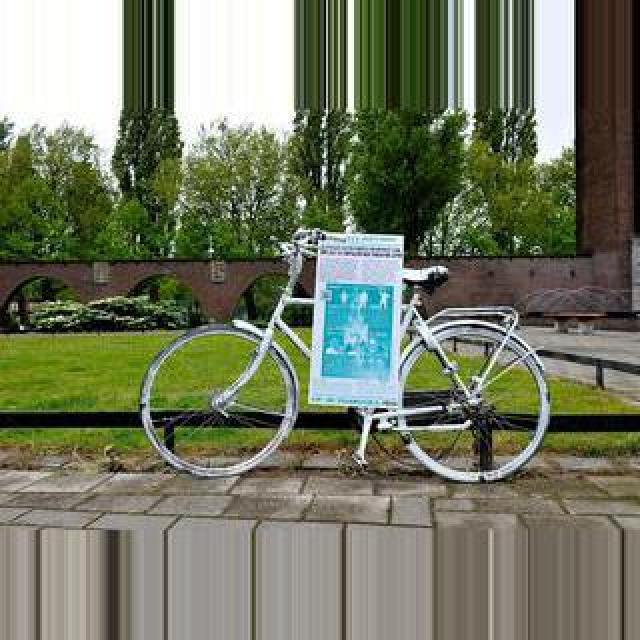Person: (126, 226, 562, 488)
